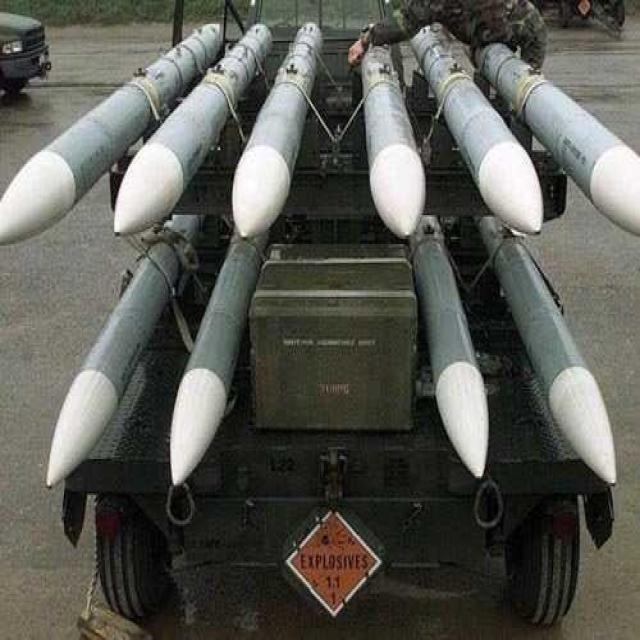missile: (0, 23, 222, 239), (45, 224, 214, 491), (478, 229, 622, 494), (106, 27, 270, 239), (482, 37, 637, 243), (406, 27, 547, 241), (162, 225, 262, 490), (397, 226, 495, 483), (222, 19, 322, 234), (342, 26, 429, 234)
